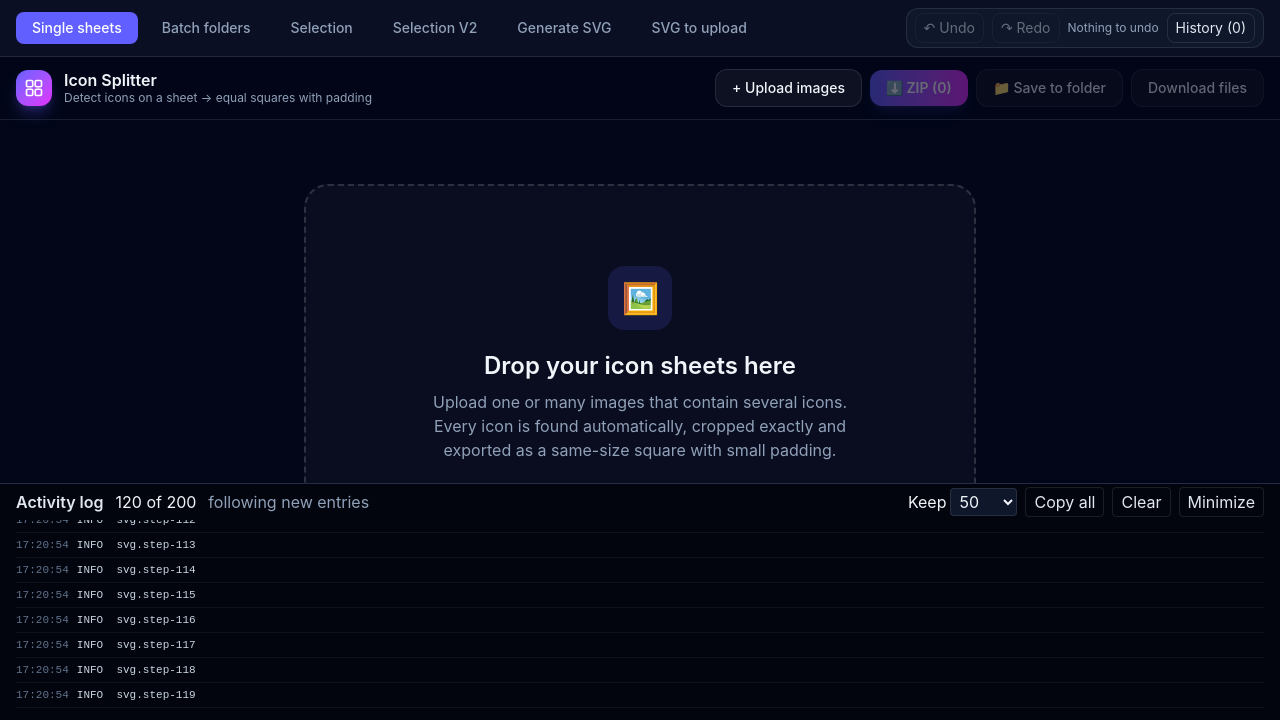
Test: the log dock › trims displayed and stored entries when the cap changes
(page scrolled)
Check: the text with test id "log-count" reads "120 of 200", box [116,492,196,512]
Select "50" in the dropdown with test id "log-max": (984, 502) [950,488,1018,516]
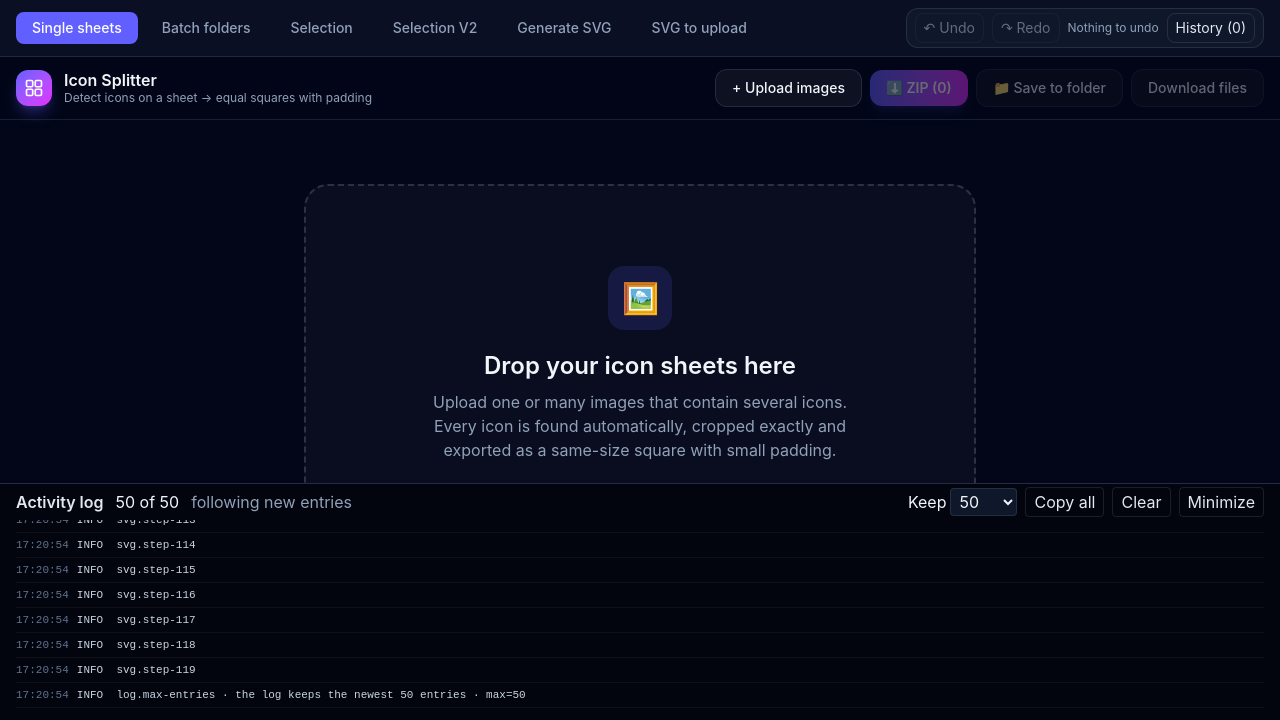
Check: the list item with test id "log-entry" shows "log.max-entries", box [77,689,526,701]
